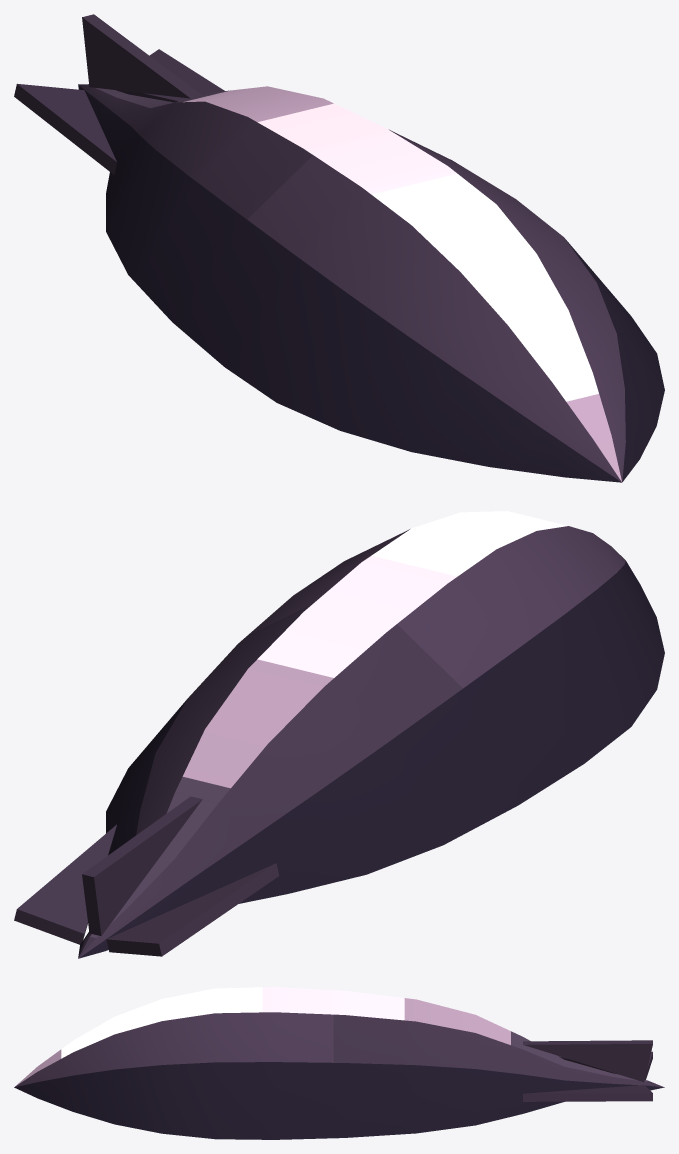
The model's file is shot_dart.glb.
3 views of the same model, one above another, from view 1: azimuth 30°, elevation 25°; view 2: azimuth 150°, elevation 25°; view 3: azimuth 270°, elevation 25° (orthographic). The views are drawn at different scales.
Visible parts, largest first — view 1: dart_body, dart_fin_top, dart_fin_l, dart_fin_r; view 2: dart_body, dart_fin_top, dart_fin_l, dart_fin_r; view 3: dart_body, dart_fin_top, dart_fin_r.
Part boxes in pixels (x1,y1,x2,y2): dart_body: [78, 84, 664, 482]; dart_fin_top: [82, 14, 202, 98]; dart_fin_l: [14, 83, 116, 174]; dart_fin_r: [115, 49, 224, 102]; dart_body: [78, 511, 664, 958]; dart_fin_top: [82, 796, 202, 935]; dart_fin_l: [106, 863, 279, 956]; dart_fin_r: [14, 824, 116, 944]; dart_body: [14, 987, 664, 1139]; dart_fin_top: [523, 1040, 652, 1082]; dart_fin_r: [523, 1085, 652, 1101].
Size of the model in its own units: 4.2 by 1.67 by 11.
